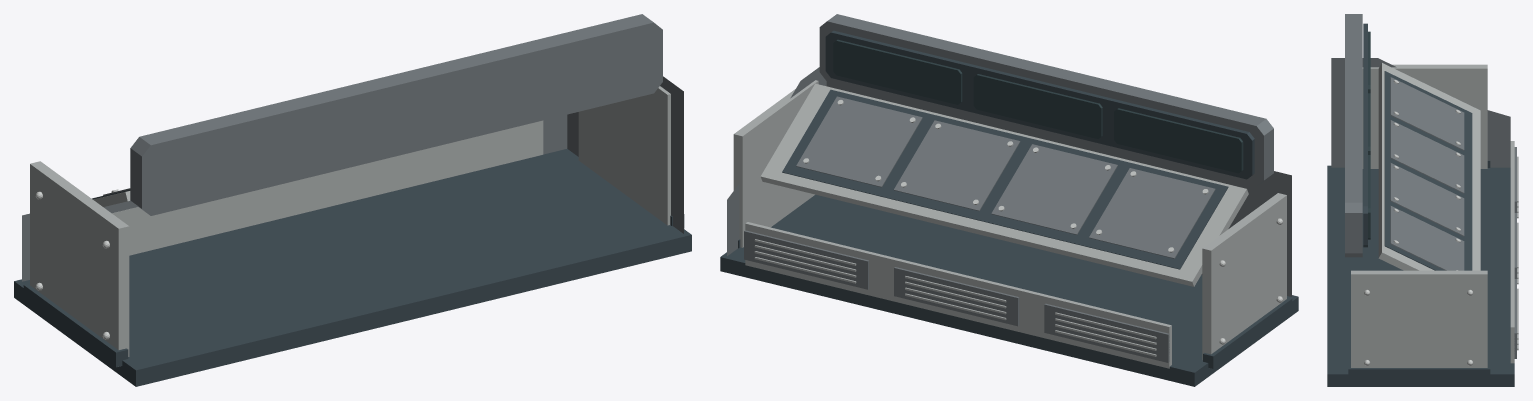
The model's file is KONTROL_KONSOLU_GOVDE_06_ADAY.glb.
3 views of the same model, side by side, from view 1: azimuth 30°, elevation 25°; view 2: azimuth 150°, elevation 25°; view 3: azimuth 270°, elevation 25° (orthographic). The views are drawn at different scales.
Parts seen in each view (by area): view 1: Continuous_lower_foundation, Instrument_hood_back, Front_service_kickplate, Side_armour_-1, Side_armour_1, Console_structural_hull, Side_lower_rubrail_-1; view 2: Continuous_lower_foundation, Instrument_hood_back, Raised_console_deck, Dark_deck_inset, Side_armour_-1, Front_service_kickplate, Instrument_hood_inner, Control_mounting_bay_0, Control_mounting_bay_2, Control_mounting_bay_3, Control_mounting_bay_1, Side_armour_1 (+8 smaller); view 3: Side_armour_1, Continuous_lower_foundation, Instrument_hood_back, Dark_deck_inset, Side_armour_-1, Raised_console_deck, Console_structural_hull, Control_mounting_bay_0, Control_mounting_bay_1, Control_mounting_bay_2, Control_mounting_bay_3, Side_lower_rubrail_1 (+8 smaller).
Part boxes in pixels (x1,y1,x2,y2): Continuous_lower_foundation: (14, 149, 691, 386); Instrument_hood_back: (130, 14, 662, 215); Front_service_kickplate: (112, 120, 543, 255); Side_armour_-1: (30, 161, 129, 356); Side_armour_1: (578, 86, 670, 225); Console_structural_hull: (22, 76, 683, 281); Side_lower_rubrail_-1: (23, 283, 128, 367); Continuous_lower_foundation: (720, 194, 1298, 386); Instrument_hood_back: (819, 14, 1273, 186); Raised_console_deck: (760, 83, 1248, 286); Dark_deck_inset: (782, 89, 1228, 269); Side_armour_-1: (1202, 193, 1286, 359); Front_service_kickplate: (745, 222, 1171, 368); Instrument_hood_inner: (825, 30, 1254, 179); Control_mounting_bay_0: (1089, 168, 1215, 258); Control_mounting_bay_2: (894, 120, 1020, 211); Control_mounting_bay_3: (796, 96, 922, 187); Control_mounting_bay_1: (991, 144, 1117, 234); Side_armour_1: (733, 80, 818, 247); Side_armour_1: (1351, 270, 1487, 367); Continuous_lower_foundation: (1327, 165, 1514, 386); Instrument_hood_back: (1345, 14, 1362, 257); Dark_deck_inset: (1384, 71, 1472, 270); Side_armour_-1: (1362, 64, 1487, 168); Raised_console_deck: (1378, 63, 1480, 270); Console_structural_hull: (1331, 58, 1510, 167); Control_mounting_bay_0: (1390, 77, 1464, 150); Control_mounting_bay_1: (1390, 120, 1464, 193); Control_mounting_bay_2: (1390, 163, 1464, 236); Control_mounting_bay_3: (1390, 206, 1464, 270); Side_lower_rubrail_1: (1348, 365, 1490, 380).
Size of the model in its own units: 6.48 by 2.46 by 2.45.
